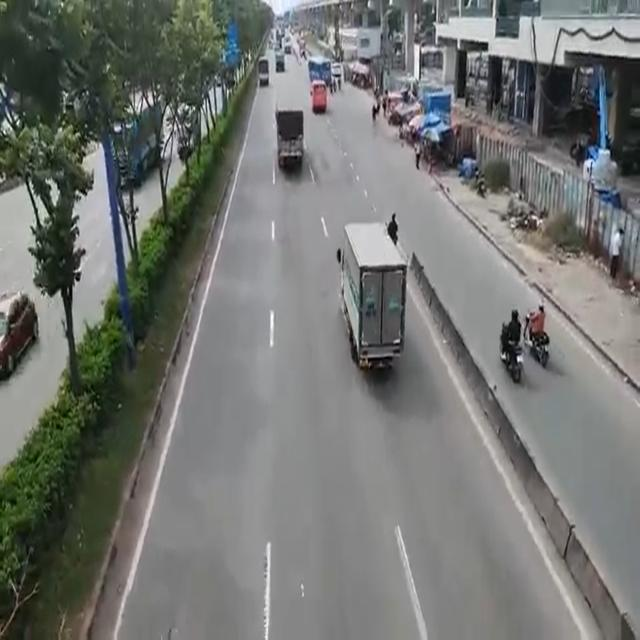truck: (336, 220, 405, 377), (272, 90, 304, 180)
